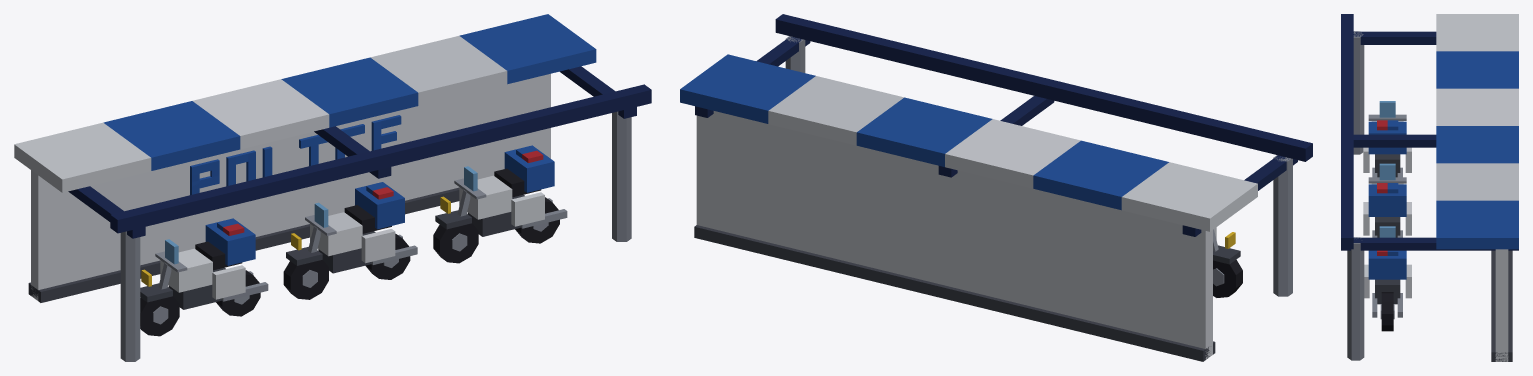
The model's file is Decor_PoliceStation_Bikes.fbx.
3 views of the same model, side by side, from view 1: azimuth 30°, elevation 25°; view 2: azimuth 150°, elevation 25°; view 3: azimuth 270°, elevation 25° (orthographic). The views are drawn at different scales.
Parts seen in each view (by area): view 1: Bikes_Body; view 2: Bikes_Body; view 3: Bikes_Body.
Boxes of the visible parts, x1,y1,x2,y2 form: Bikes_Body: (14, 14, 651, 361); Bikes_Body: (680, 14, 1312, 361); Bikes_Body: (1341, 14, 1518, 361).
Size of the model in its own units: 25 by 6.7 by 8.4.
